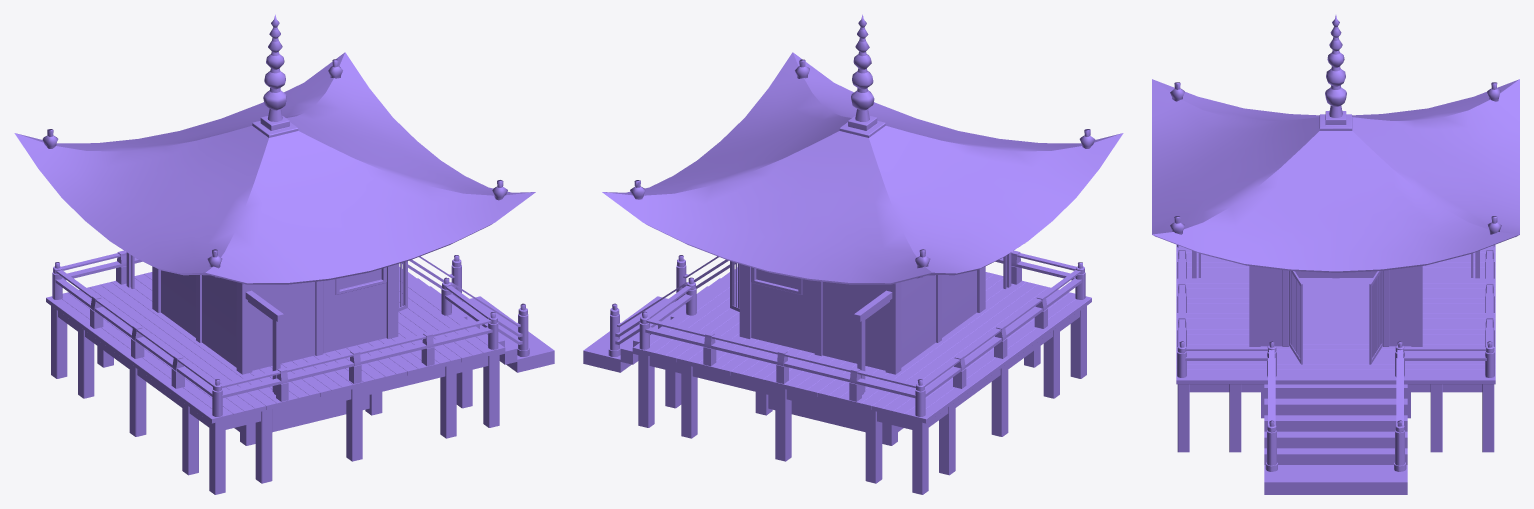
Rendered from TEMPLE LOD1.fbx.
3 views of the same model, side by side, from view 1: azimuth 30°, elevation 25°; view 2: azimuth 150°, elevation 25°; view 3: azimuth 270°, elevation 25° (orthographic). The views are drawn at different scales.
Visible parts, largest first — view 1: temple_LOD1; view 2: temple_LOD1; view 3: temple_LOD1.
Part boxes in pixels (bbox=[...]): temple_LOD1: bbox=[14, 14, 554, 494]; temple_LOD1: bbox=[583, 14, 1123, 494]; temple_LOD1: bbox=[1152, 15, 1519, 494].
Size of the model in its own units: 1082 by 981 by 878.
